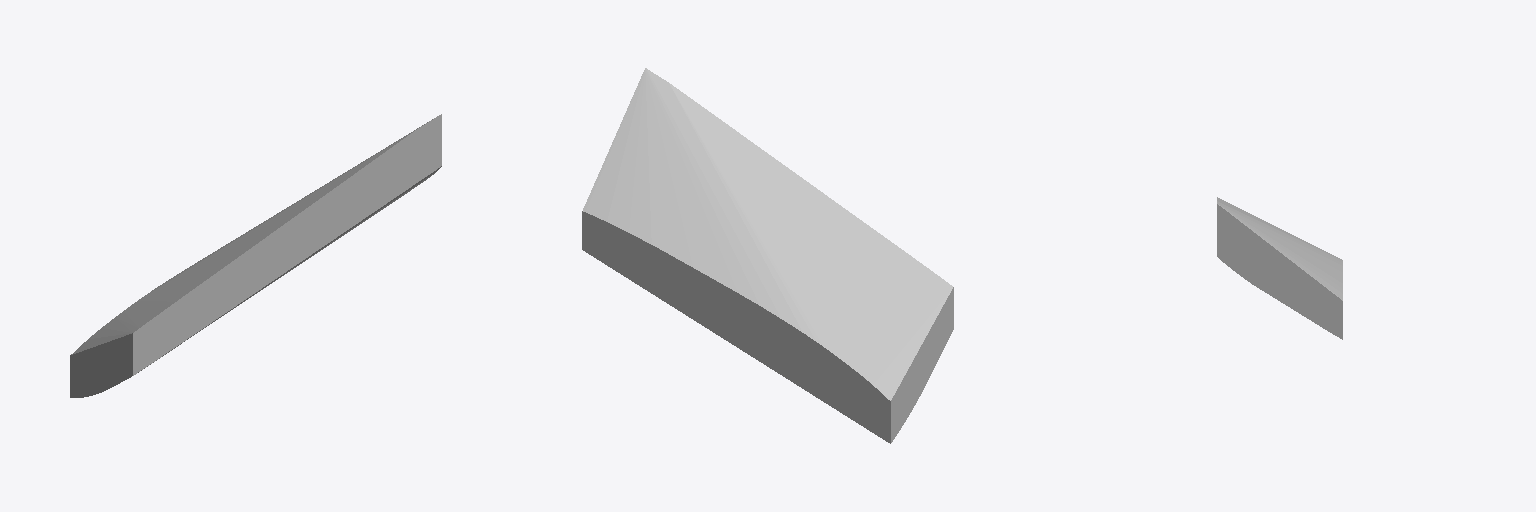
File: phantom-elastrat_collision_42.obj
The picture shows the model from 3 angles: view 1: azimuth 30°, elevation 25°; view 2: azimuth 150°, elevation 25°; view 3: azimuth 270°, elevation 25°; orthographic projection.
Bounding box in the file's own units: 0.0164 × 0.0129 × 0.0058.